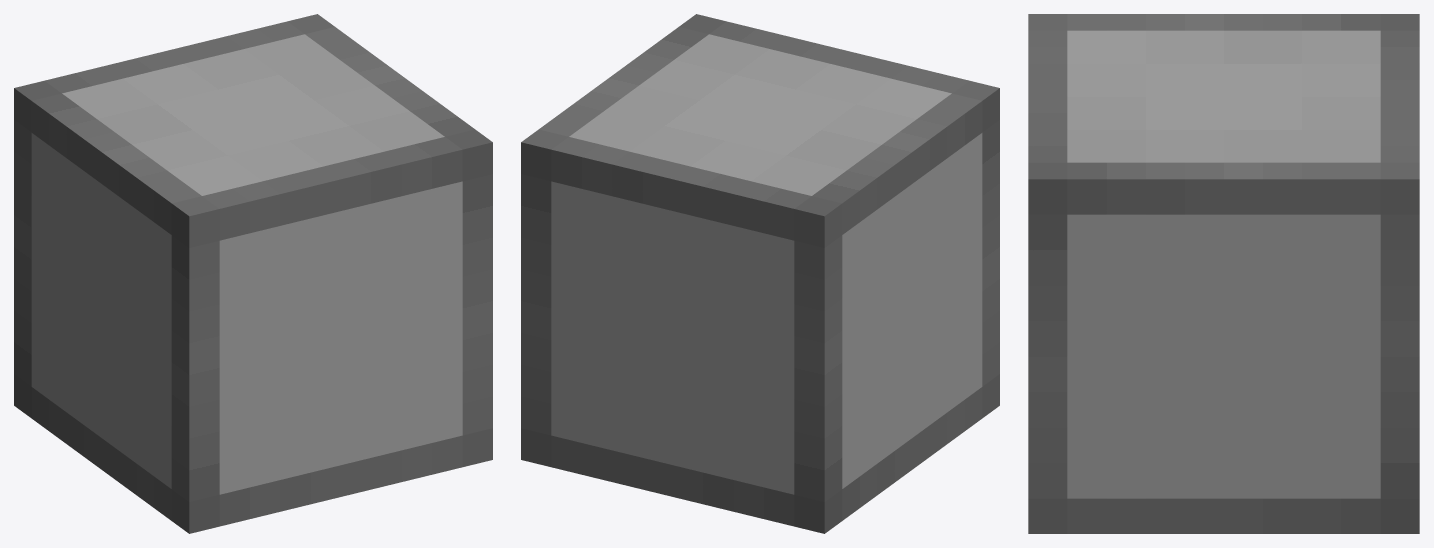
The model's file is simple0.obj.
3 views of the same model, side by side, from view 1: azimuth 30°, elevation 25°; view 2: azimuth 150°, elevation 25°; view 3: azimuth 270°, elevation 25° (orthographic). The views are drawn at different scales.
Parts seen in each view (by area): view 1: Cube.001_Cube.006; view 2: Cube.001_Cube.006; view 3: Cube.001_Cube.006.
Part boxes in pixels (left/top/right/bottom): Cube.001_Cube.006: left=14, top=14, right=492, bottom=533; Cube.001_Cube.006: left=521, top=14, right=999, bottom=533; Cube.001_Cube.006: left=1028, top=14, right=1419, bottom=533.
Size of the model in its own units: 0.5 by 0.5 by 0.5.
